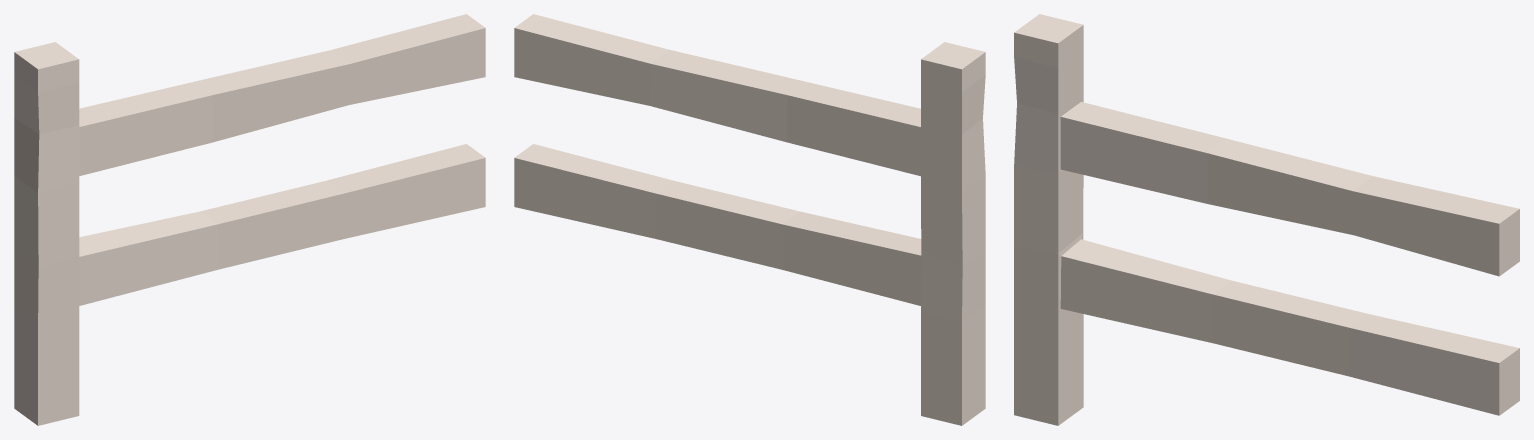
The model's file is Fence_1.fbx.
3 renders of one model, left to right at view 1: azimuth 30°, elevation 25°; view 2: azimuth 150°, elevation 25°; view 3: azimuth 330°, elevation 25°, orthographic. The views are drawn at different scales.
Parts seen in each view (by area): view 1: Cube; view 2: Cube; view 3: Cube.
Boxes of the visible parts, x1,y1,x2,y2 form: Cube: (14, 14, 485, 425); Cube: (514, 14, 985, 425); Cube: (1014, 14, 1519, 425).
Size of the model in its own units: 4.2 by 3.17 by 0.3873.
